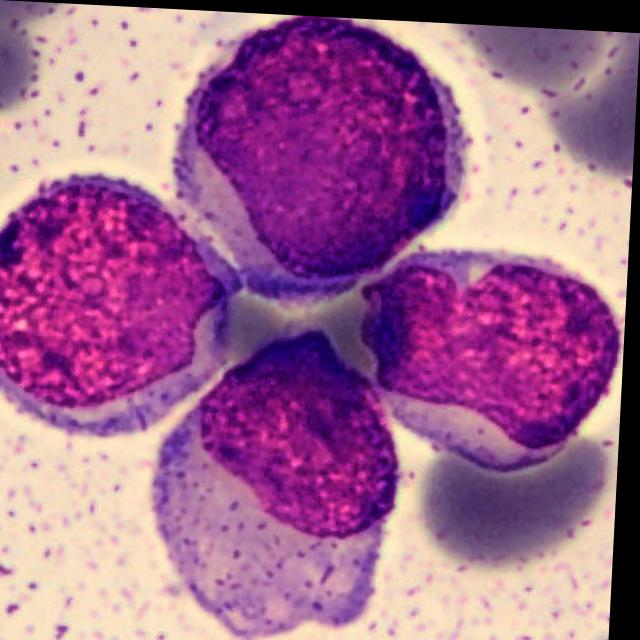Mieloblasto: (173, 12, 467, 295), (156, 324, 403, 635), (0, 173, 233, 433), (360, 245, 624, 461)
